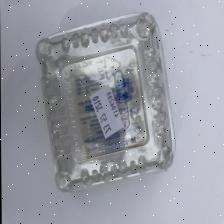plastic: (35, 13, 175, 193)
